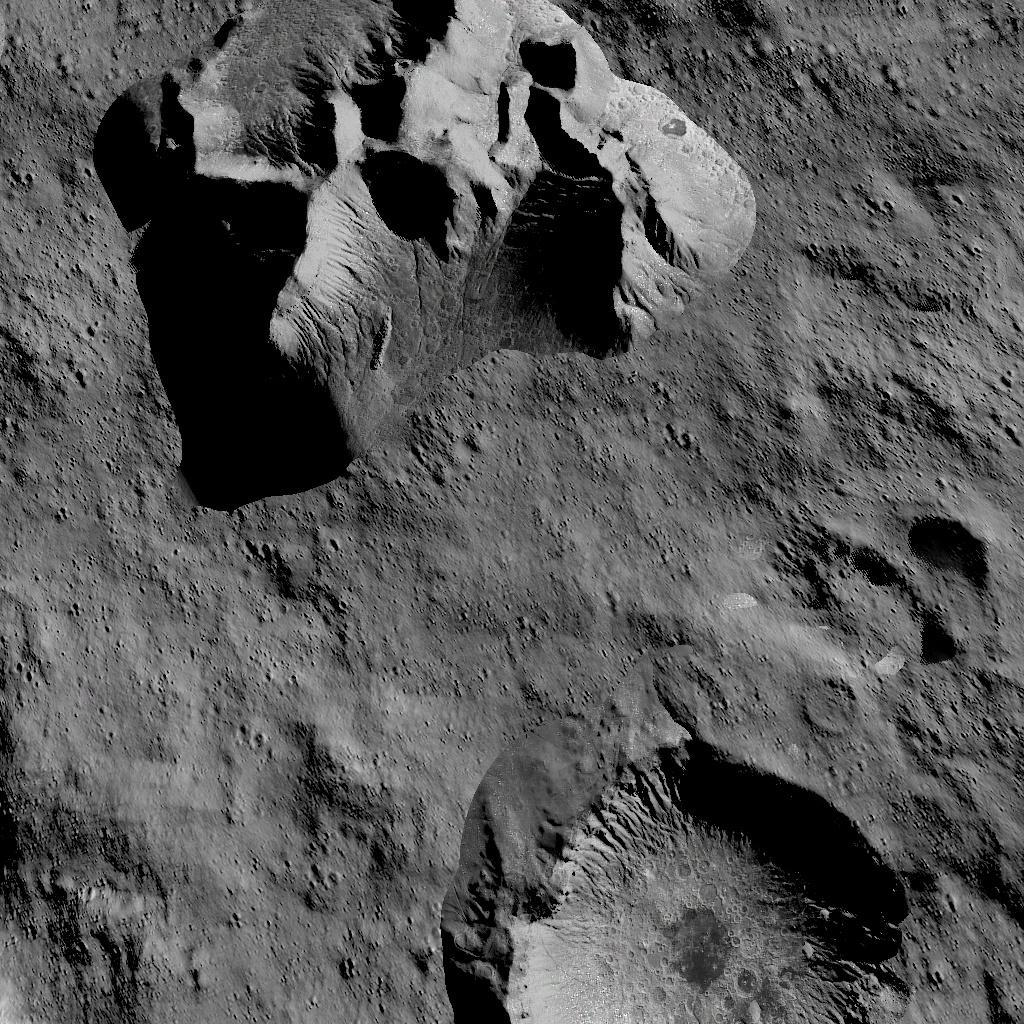Boulders: (97, 0, 759, 507)
Crater: (440, 726, 932, 1024), (897, 510, 1000, 660)
Plan surface: (154, 522, 424, 1024), (795, 4, 1024, 480), (441, 516, 778, 713)
